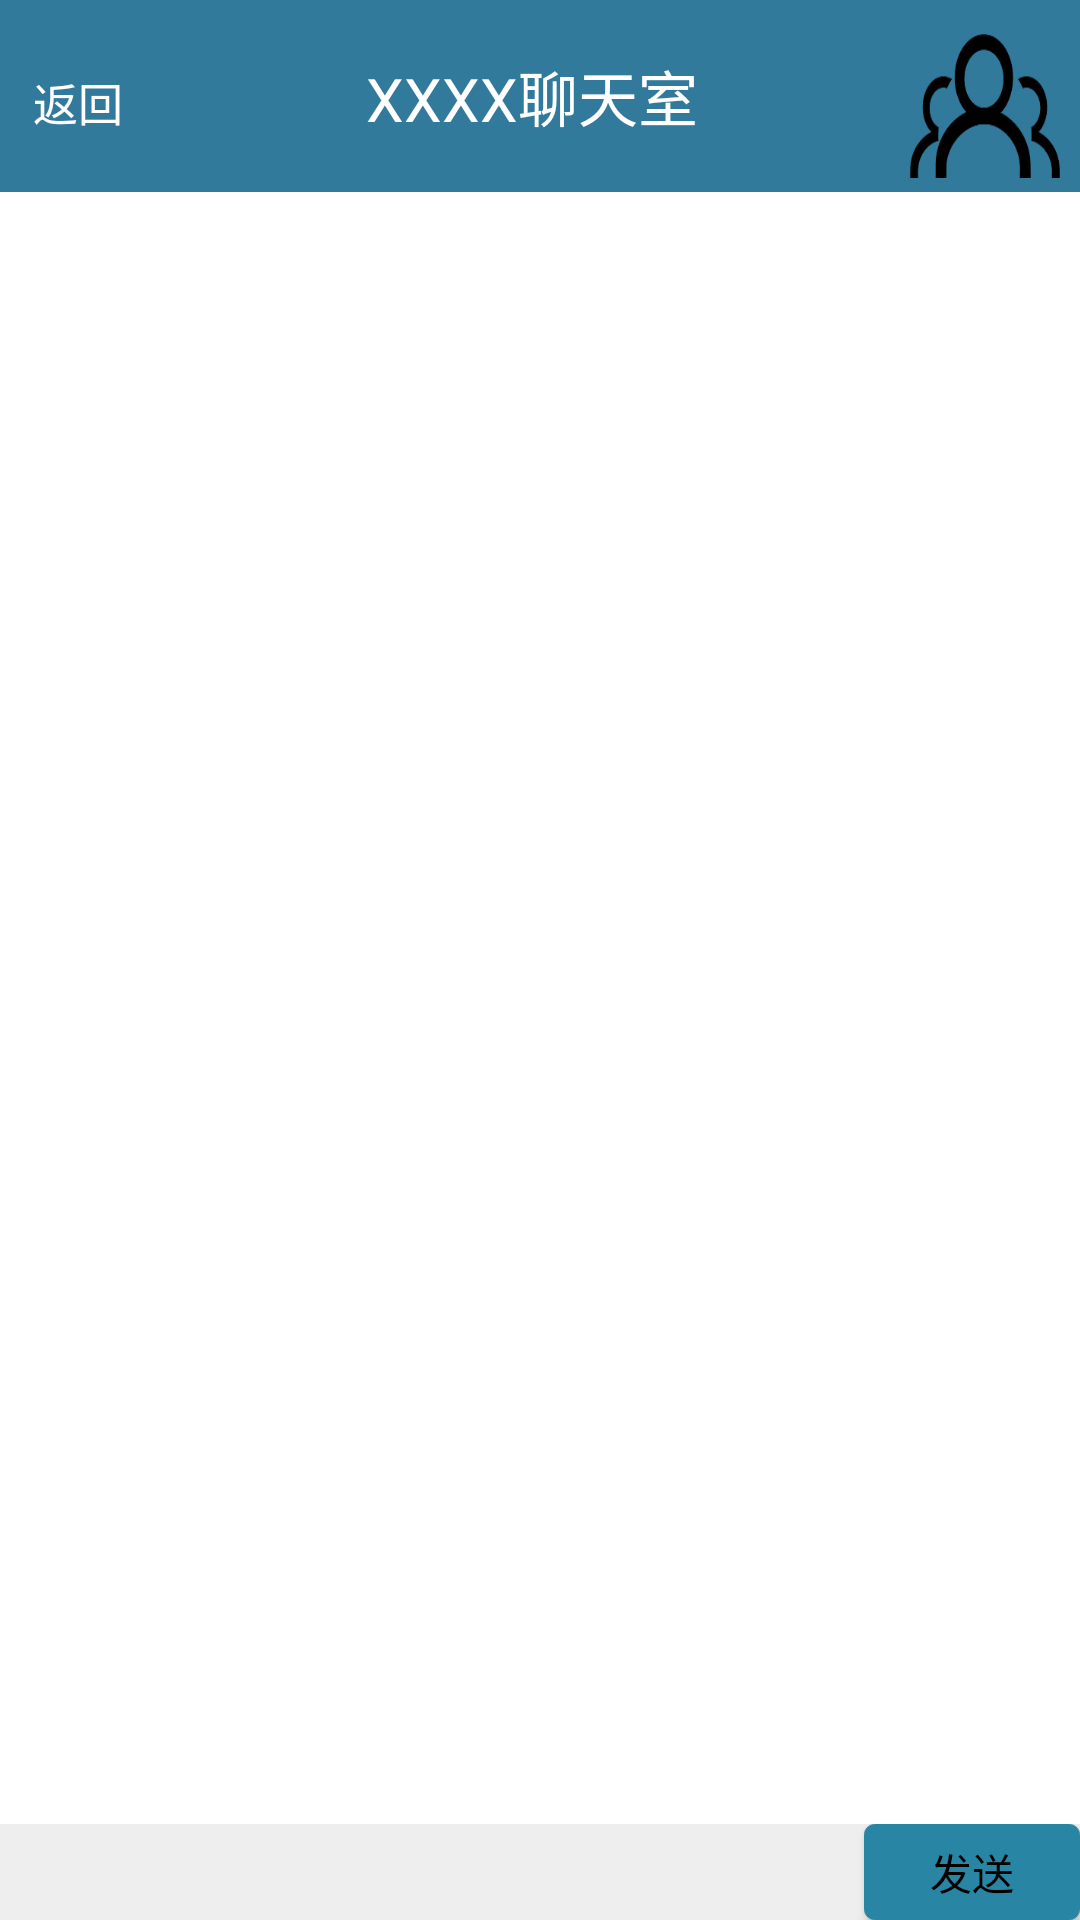

Where to tap for icons on this 1080 x 1920 app screen, as (x=x, y=y):
man: (x=985, y=106)
